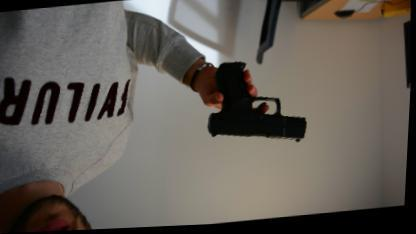pistol: (204, 55, 312, 152)
